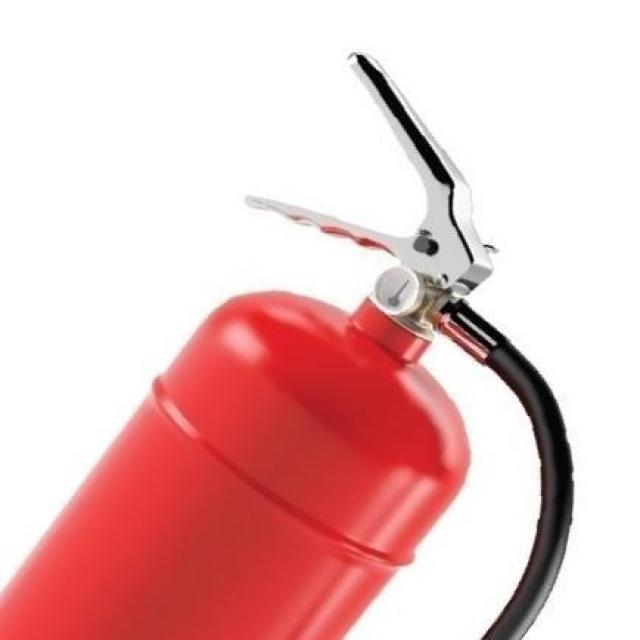fire_extinguisher: (0, 44, 577, 638)
